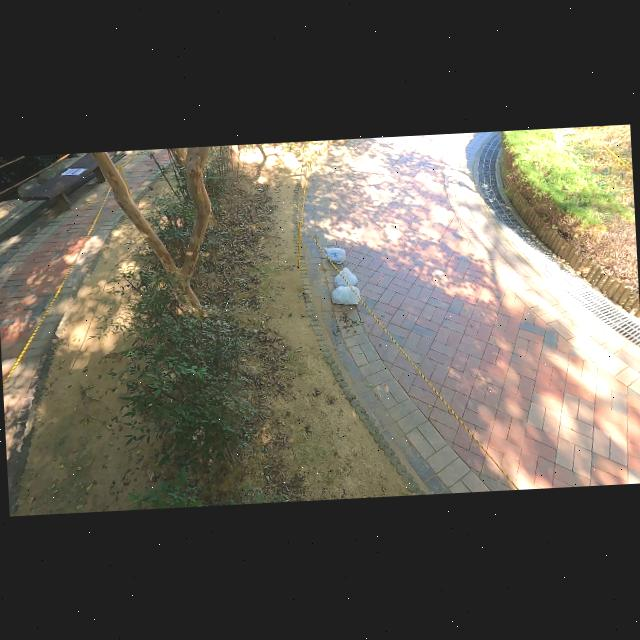trash: (330, 282, 362, 307), (335, 264, 359, 289), (323, 244, 348, 266)
